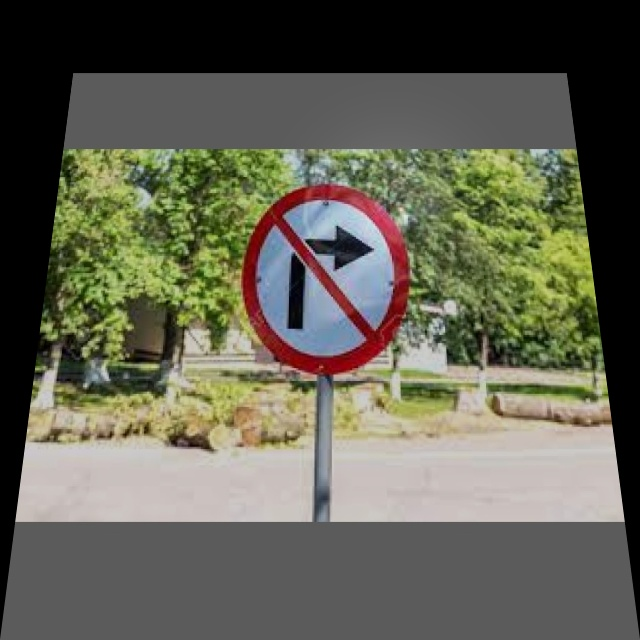Right_Turn_Prohibited: (237, 182, 412, 370)
